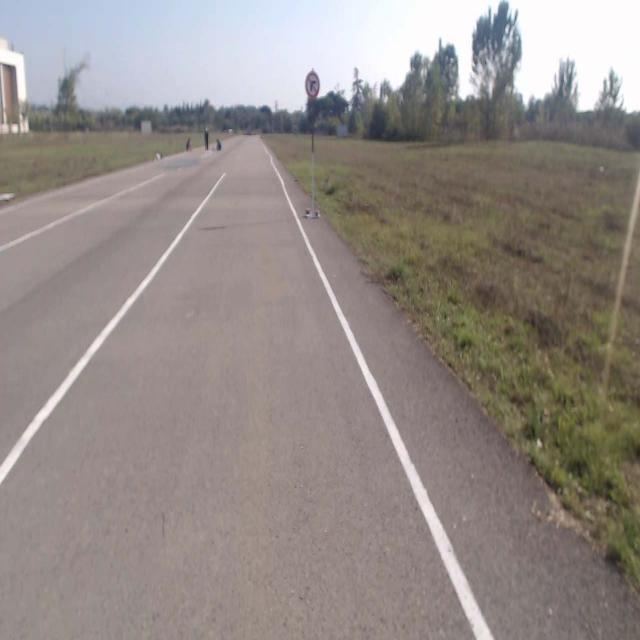sagadonulmez: (305, 71, 319, 98)
